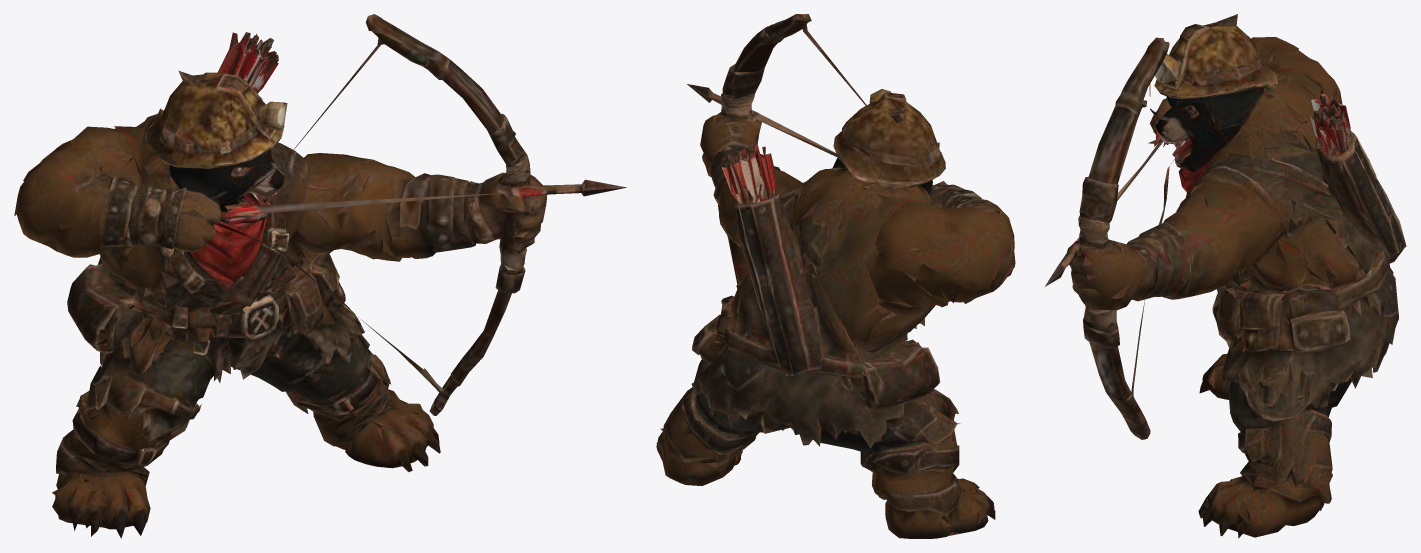
Rendered from bear_archer.glb.
3 views of the same model, side by side, from view 1: azimuth 30°, elevation 25°; view 2: azimuth 150°, elevation 25°; view 3: azimuth 270°, elevation 25° (orthographic). The views are drawn at different scales.
Parts seen in each view (by area): view 1: Mesh_0; view 2: Mesh_0; view 3: Mesh_0.
Part boxes in pixels (x1,y1,x2,y2): Mesh_0: (14,14,626,538); Mesh_0: (656,14,1015,538); Mesh_0: (1045,14,1406,538).
Bounding box in the file's own units: 1.26 × 1.2 × 0.8706.
Materials: 1 (1 with a texture image).
